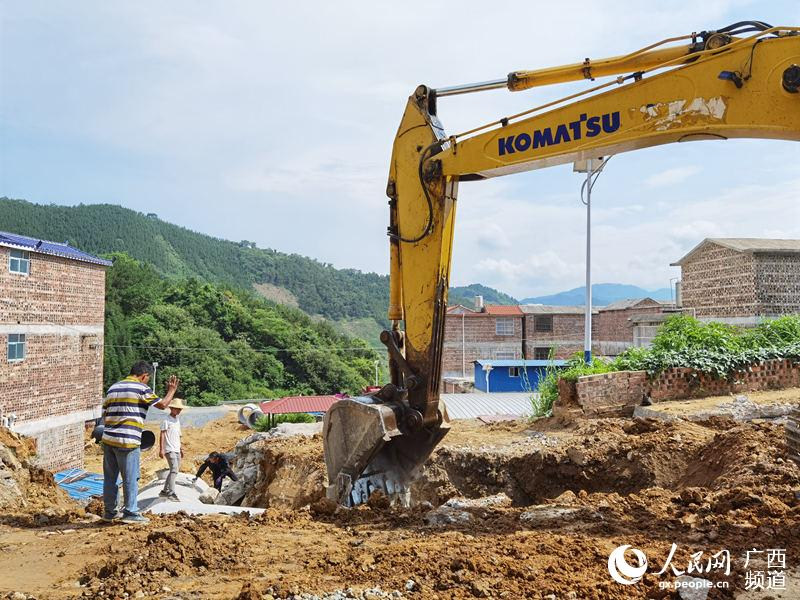excavator: (323, 20, 800, 524)
